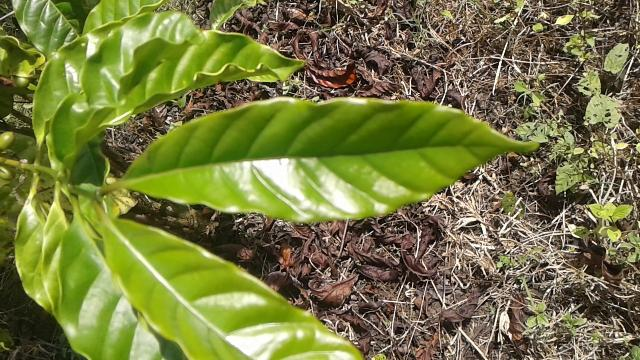healthy: (117, 92, 548, 222)
